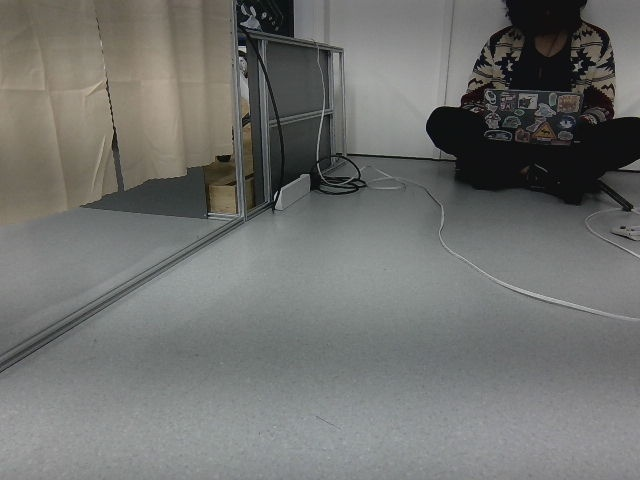curtain: (0, 0, 243, 192)
